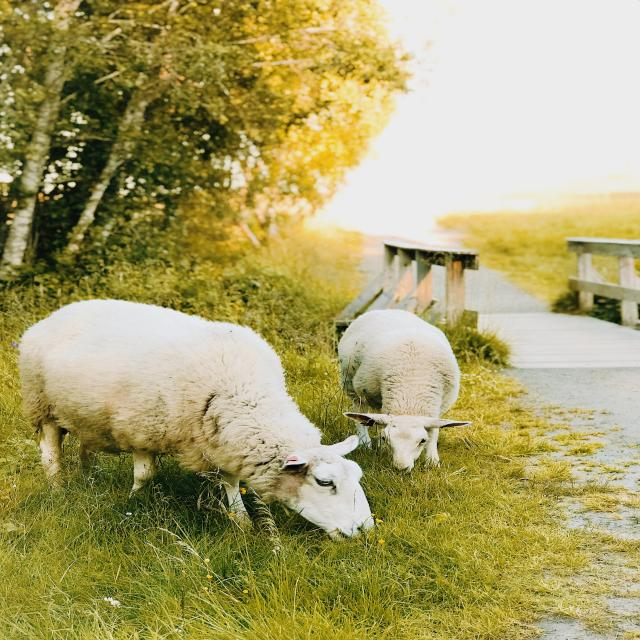sheep: (9, 290, 406, 536), (326, 290, 508, 497)
tree: (9, 5, 258, 316)
